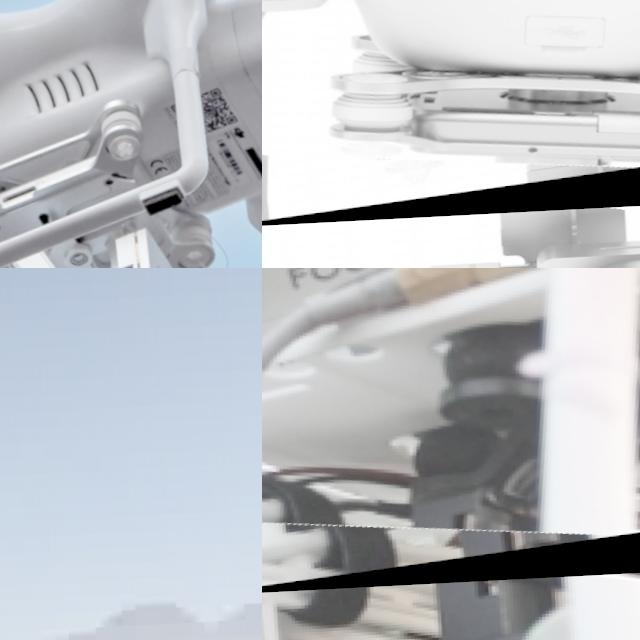drone: (262, 268, 640, 598), (262, 0, 640, 230), (0, 0, 262, 268)
